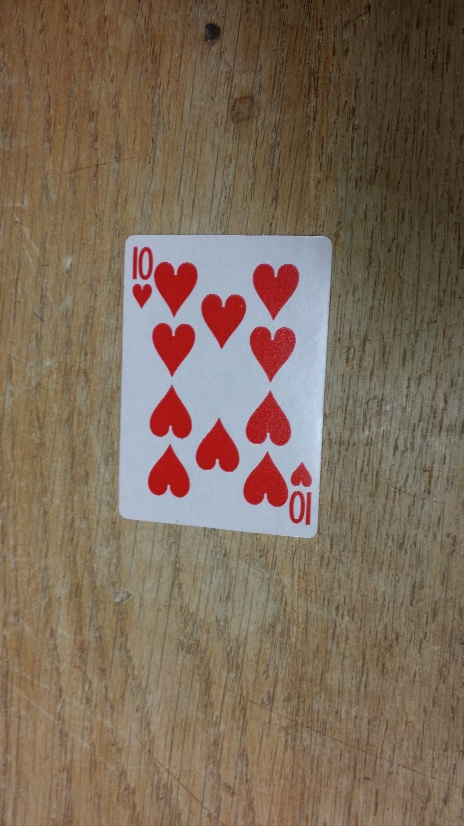H10: (288, 459, 315, 530), (129, 241, 156, 312)
